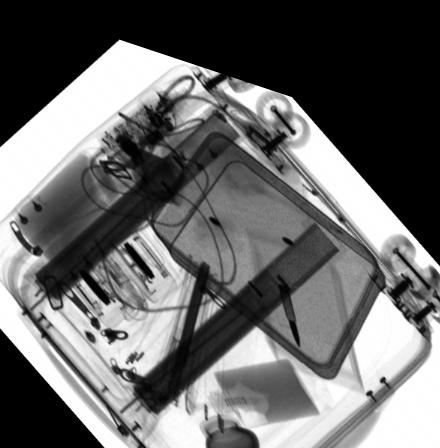Bullet: (277, 265, 301, 329)
